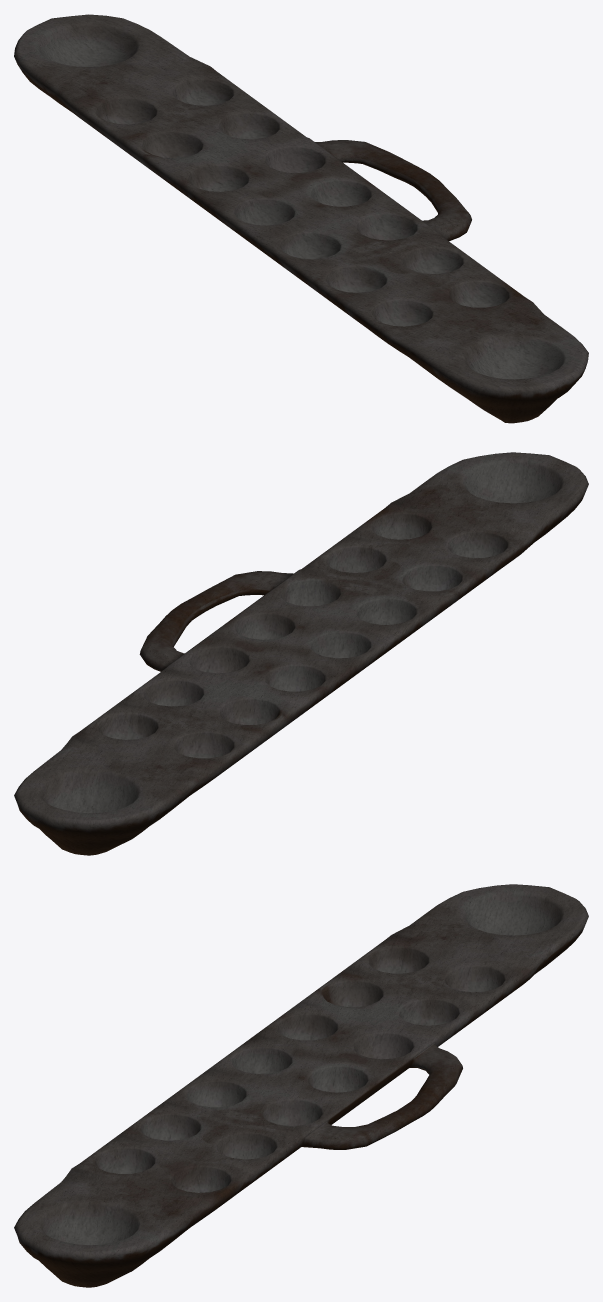
File: ph_sungka_board.glb
3 renders of one model, top to bottom at view 1: azimuth 30°, elevation 25°; view 2: azimuth 150°, elevation 25°; view 3: azimuth 330°, elevation 25°, orthographic.
Visible parts, largest first — view 1: ph_sungka_board; view 2: ph_sungka_board; view 3: ph_sungka_board.
Part boxes in pixels (x1,y1,x2,y2): ph_sungka_board: (14,14,588,423); ph_sungka_board: (14,452,588,855); ph_sungka_board: (14,884,588,1287).
Size of the model in its own units: 0.14 by 0.0352 by 0.6006.
1 material, 1 textured.
